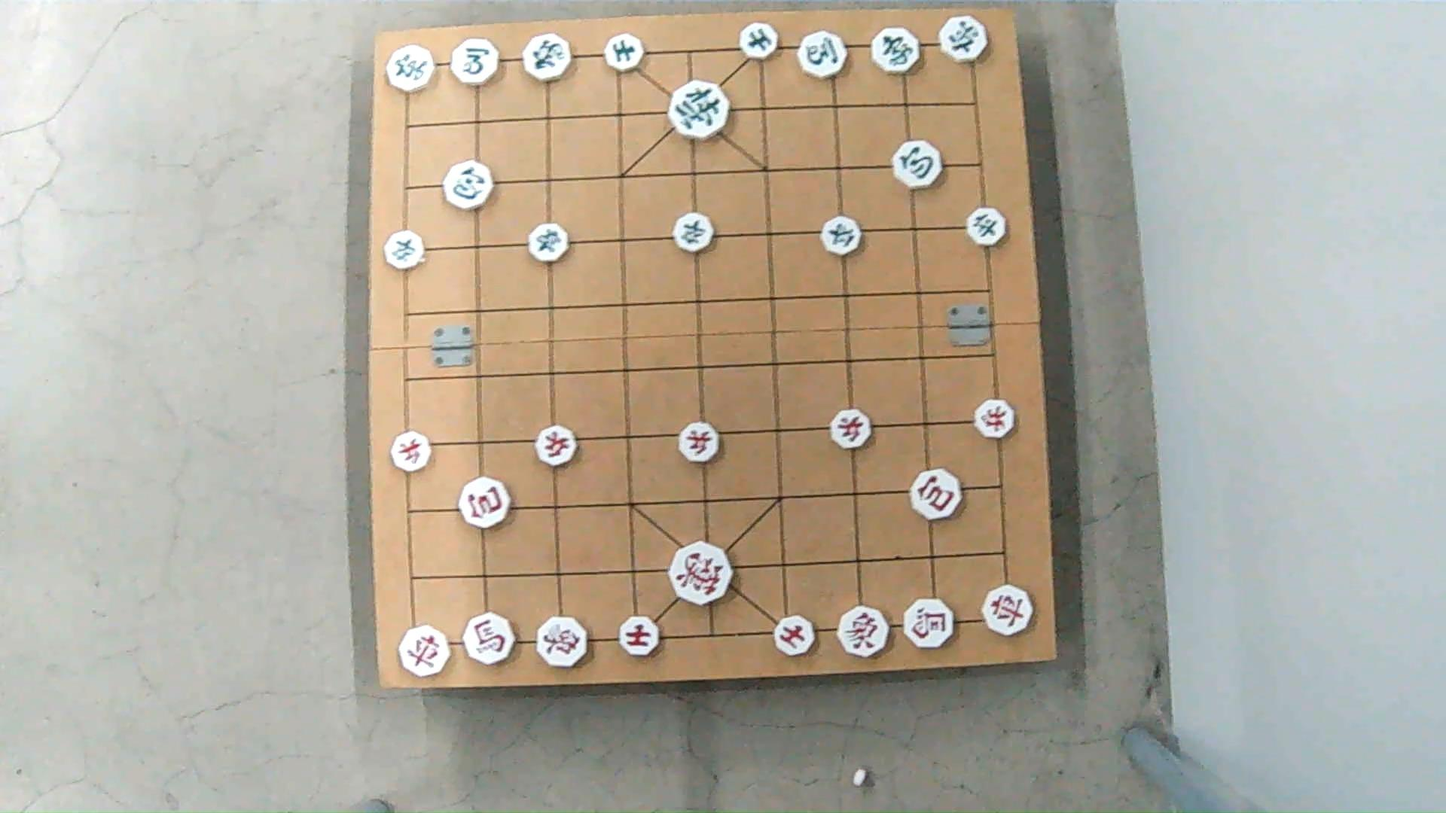cha_green: (938, 17, 989, 62), (387, 46, 437, 90)
cha_red: (982, 582, 1034, 637), (396, 629, 449, 678)
jol_green: (381, 230, 426, 268), (526, 223, 570, 260), (674, 214, 717, 251), (819, 217, 861, 254), (964, 208, 1005, 245)
jol_red: (679, 425, 722, 464), (535, 427, 578, 466), (389, 434, 432, 472), (828, 410, 871, 447), (972, 400, 1013, 437)
ma_green: (797, 32, 849, 78), (453, 39, 504, 84)
ma_red: (462, 613, 517, 667), (904, 594, 954, 647)
po_green: (890, 142, 941, 189), (447, 163, 497, 209)
po_red: (911, 470, 962, 519), (460, 480, 513, 527)
sa_green: (606, 35, 647, 71), (737, 23, 776, 59)
sa_red: (774, 617, 817, 656), (620, 617, 663, 656)
sang_green: (868, 25, 921, 72), (523, 35, 575, 81)
sang_red: (536, 616, 590, 666), (838, 609, 891, 655)
wang_green: (665, 81, 730, 136)
wang_red: (667, 545, 733, 604)
